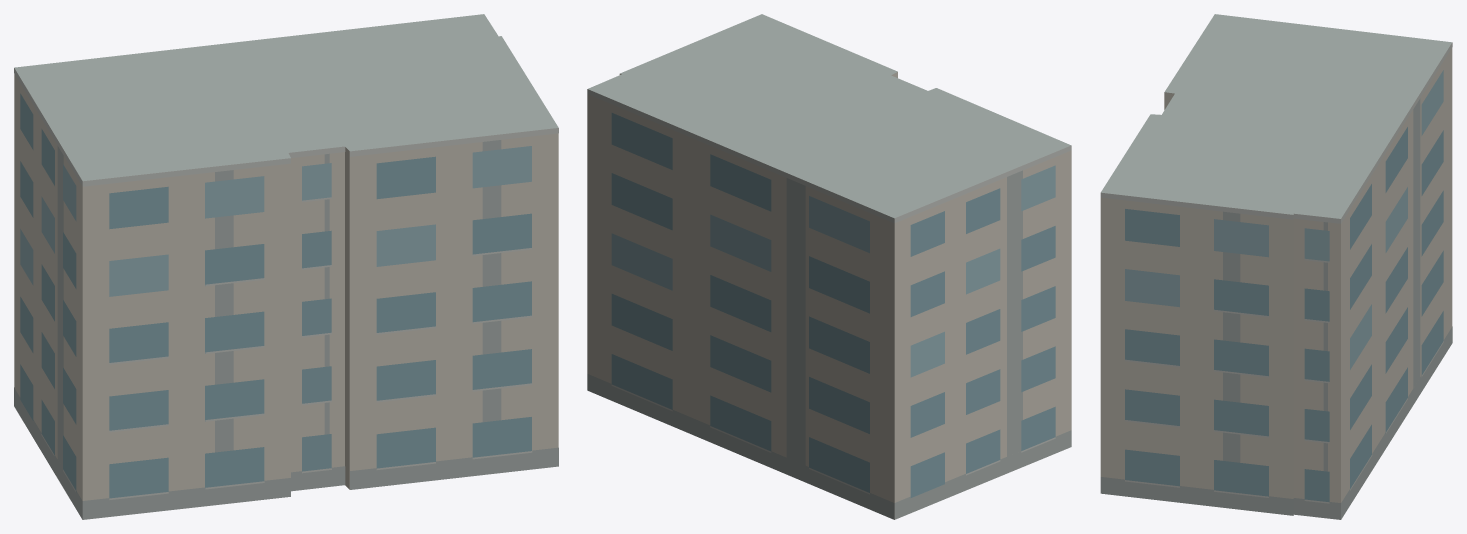
File: survey-upis-32797833.glb
The picture shows the model from 3 angles, left to right: view 1: azimuth 30°, elevation 25°; view 2: azimuth 150°, elevation 25°; view 3: azimuth 270°, elevation 25°; orthographic projection. The views are drawn at different scales.
Parts seen in each view (by area): view 1: survey-upis-32797833.tmp; view 2: survey-upis-32797833.tmp; view 3: survey-upis-32797833.tmp.
Boxes of the visible parts, x1,y1,x2,y2 form: survey-upis-32797833.tmp: (14,14,558,519); survey-upis-32797833.tmp: (587,14,1071,519); survey-upis-32797833.tmp: (1100,14,1452,519).
Size of the model in its own units: 21.77 by 14.9 by 15.8.
